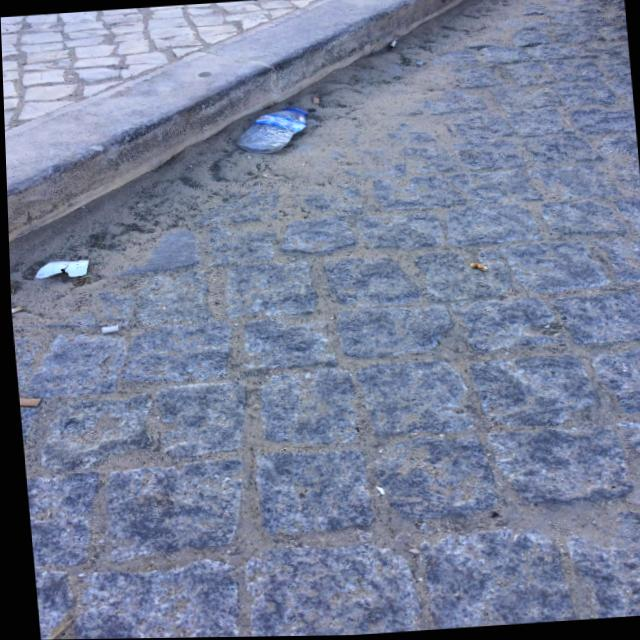Paper: (21, 254, 95, 287)
Plastic: (224, 102, 321, 160)
